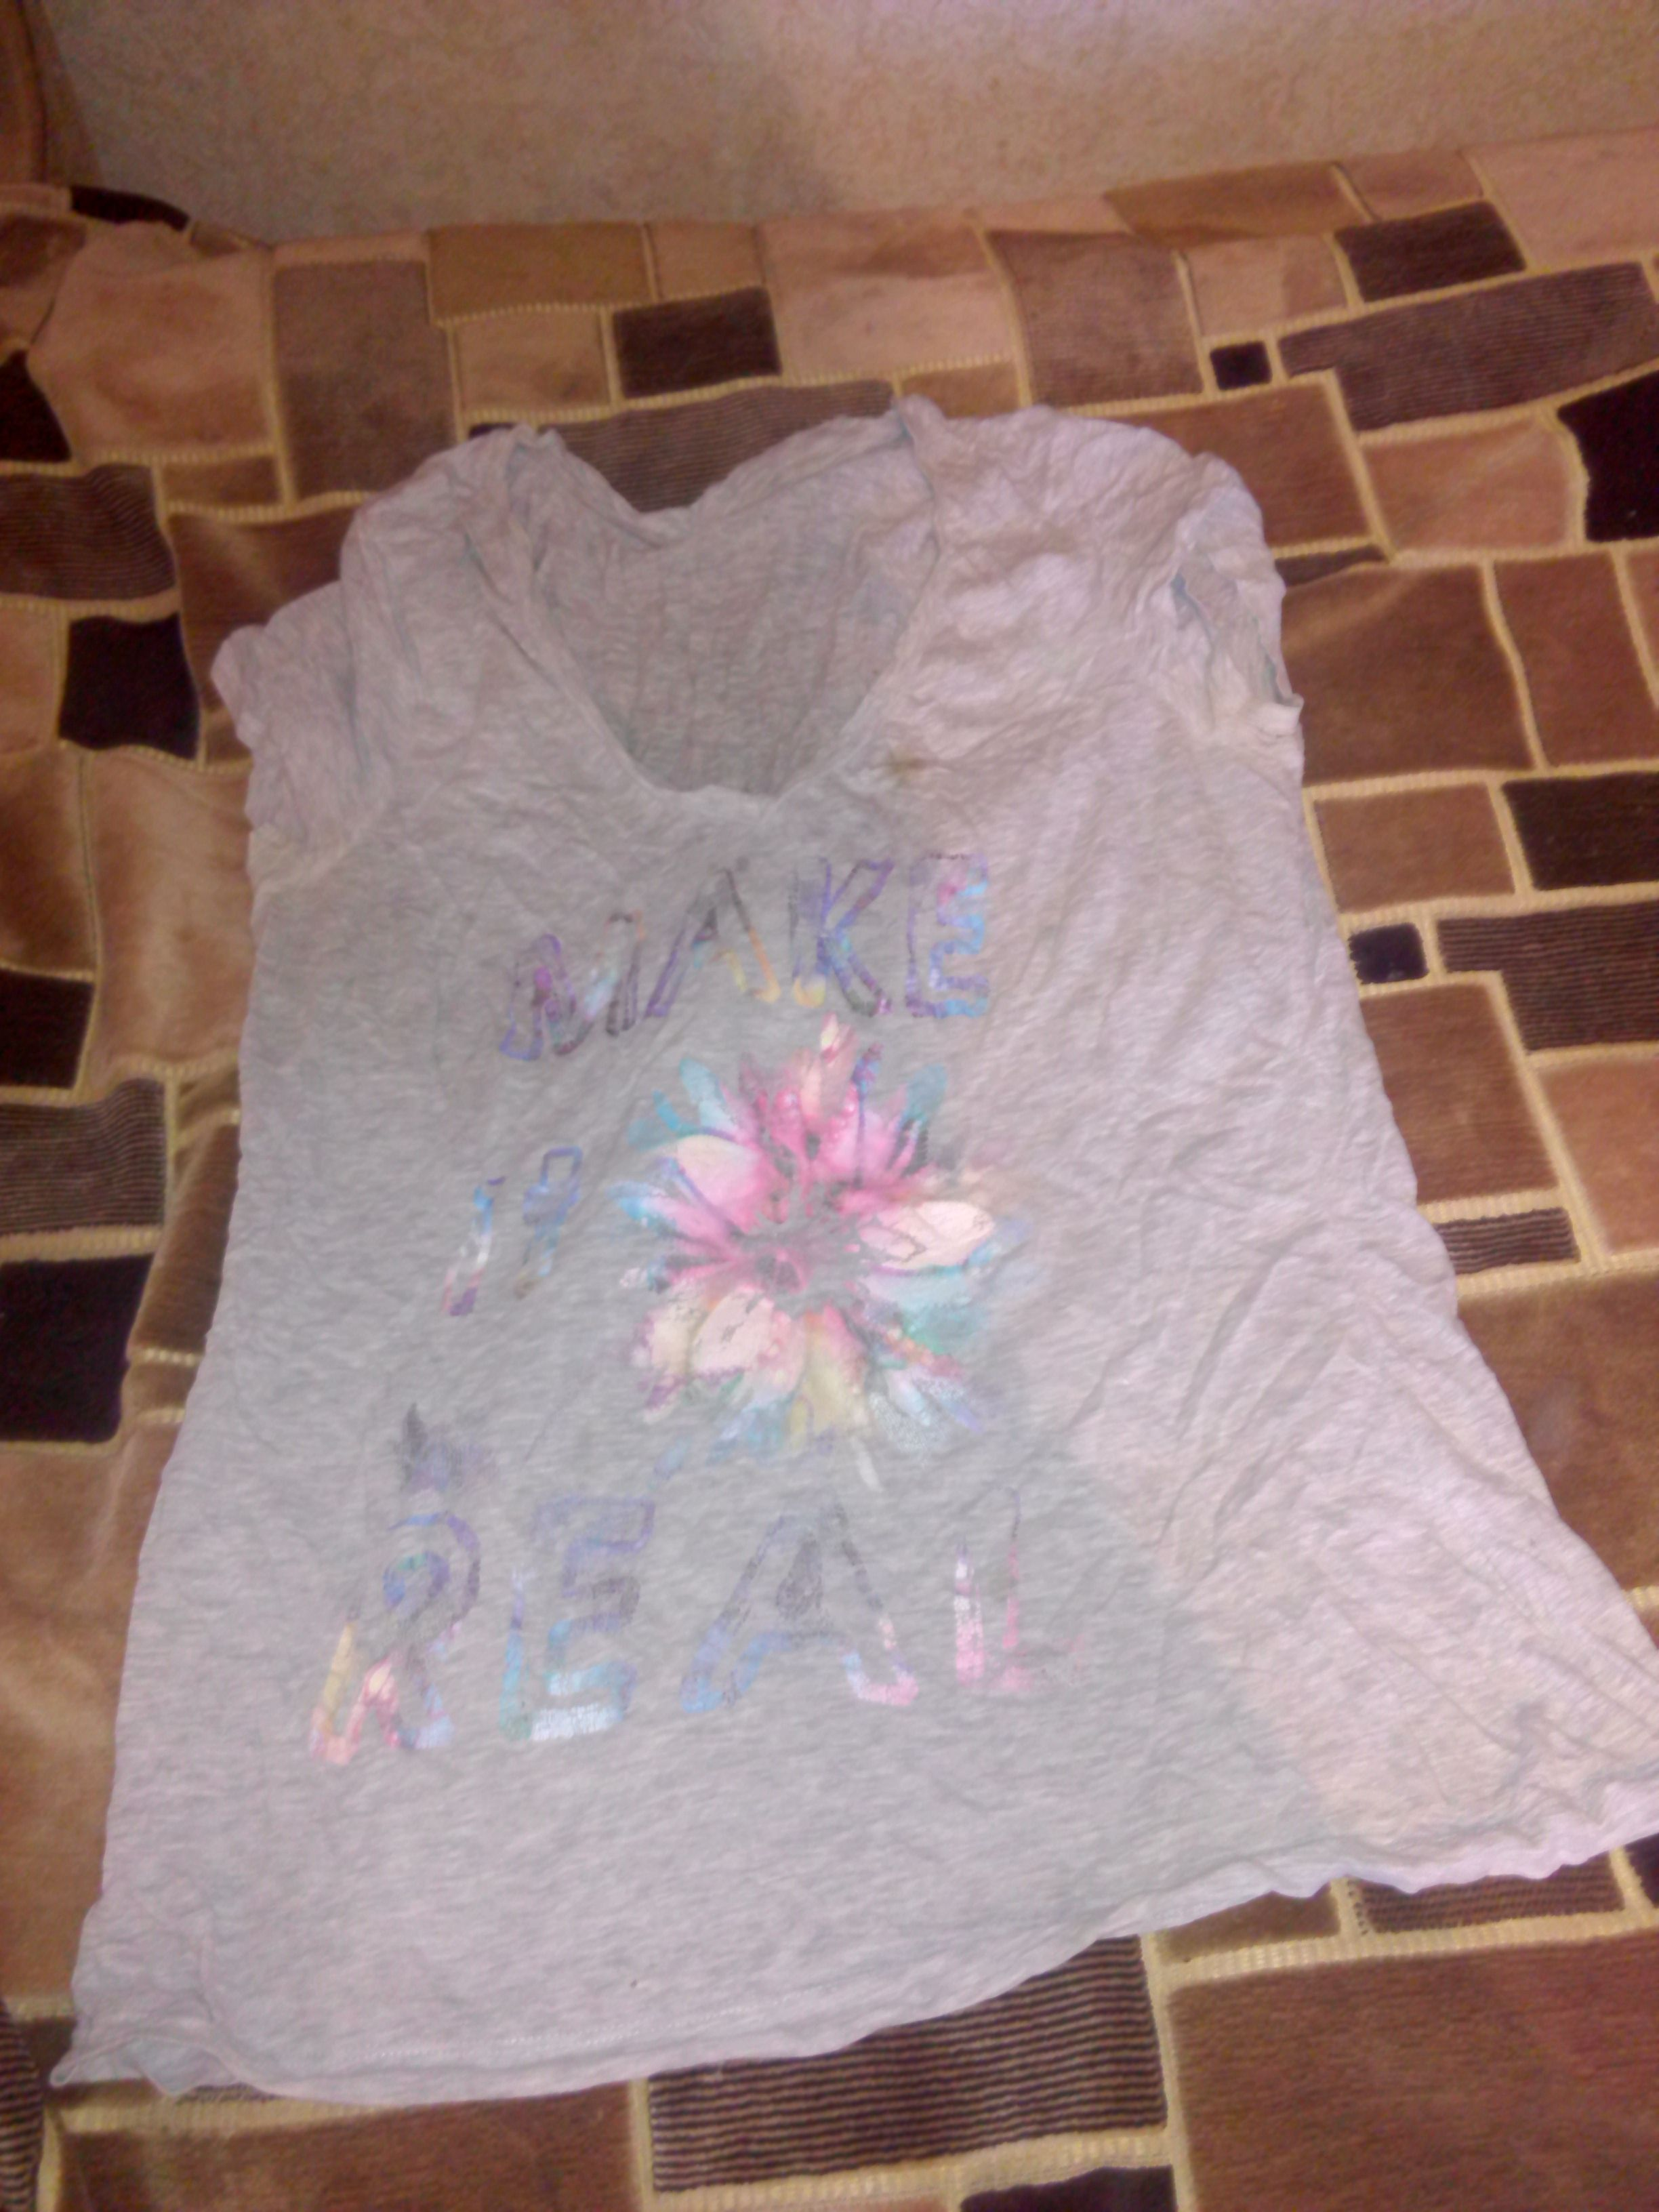clothes: (49, 394, 1656, 2062)
